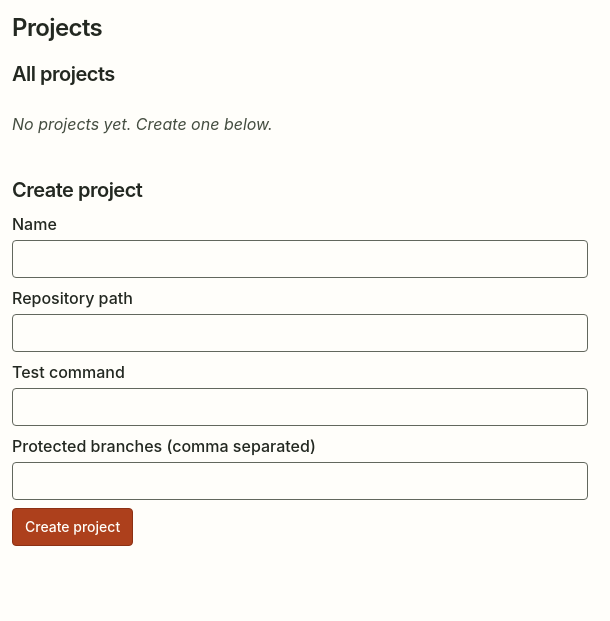
it: Projects › creates a project with test command and protected branches, then refreshes
Expected: the text "No projects yet. Create one below." is shown, [12,114,273,134]
In the field labelled "Name": {"x": 300, "y": 259} [12,240,588,278], type "beta"
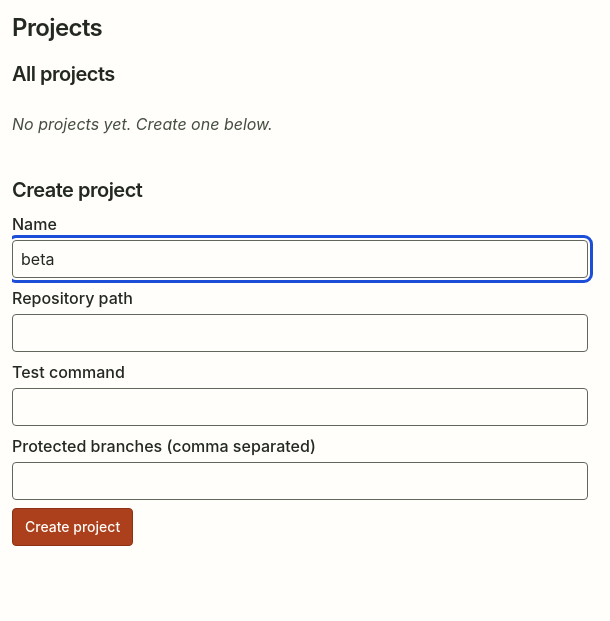
In the field labelled "Repository path": {"x": 300, "y": 333} [12,314,588,352], type "/repos/beta"
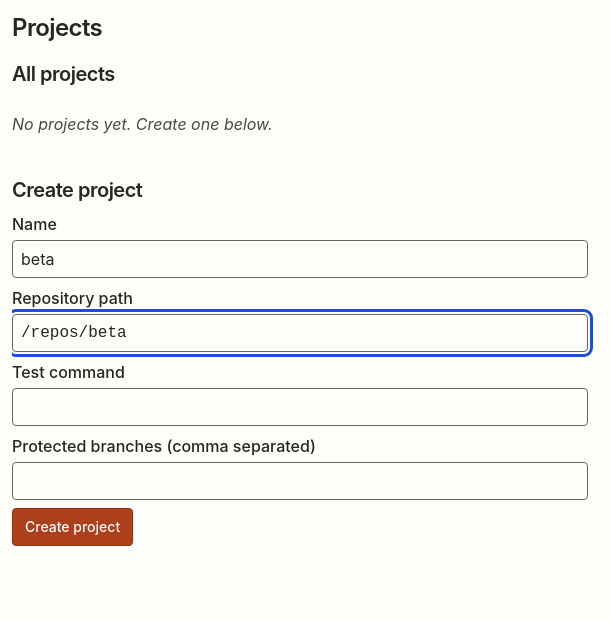
In the field labelled "Test command": {"x": 300, "y": 407} [12,388,588,426], type "pnpm test"
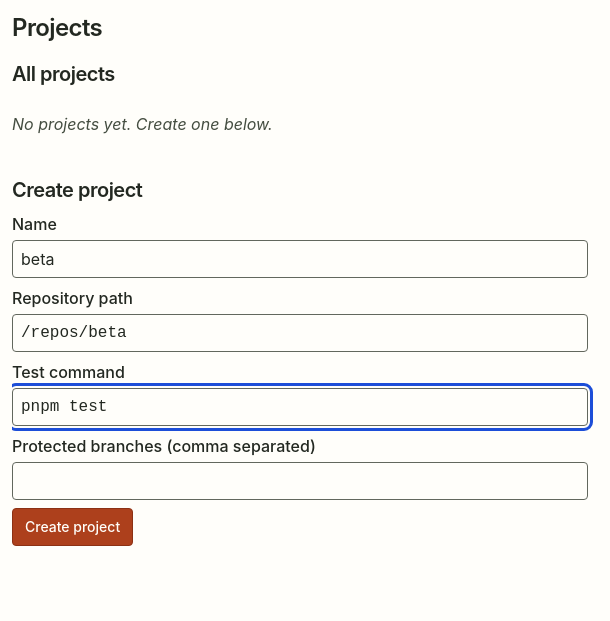
In the field labelled "Protected branches (comma separated)": {"x": 300, "y": 481} [12,462,588,500], type "main, release"
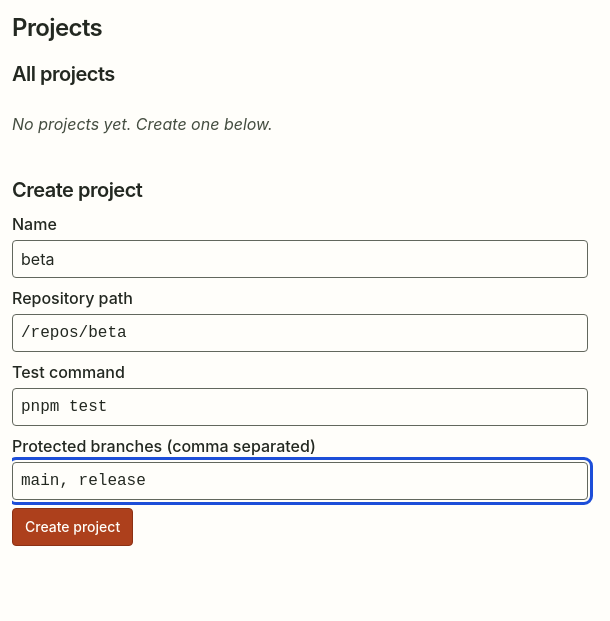
Click the button "Create project": {"x": 73, "y": 527} [12,508,133,546]
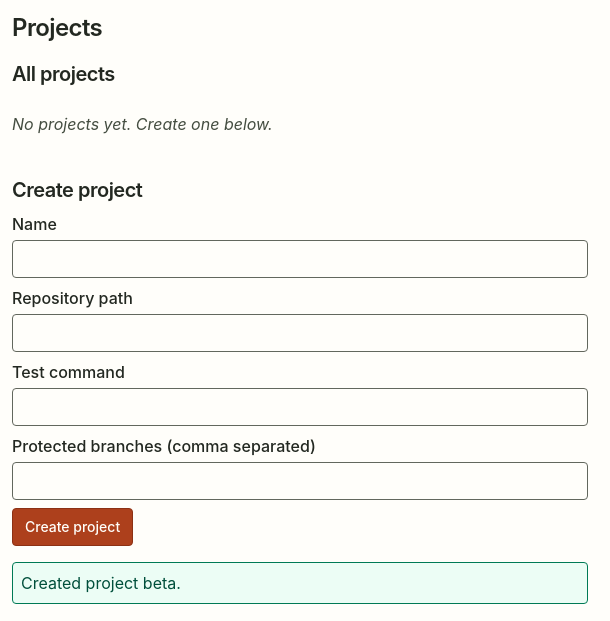
Now the text "Created project beta." is shown, box [12,562,588,604]
